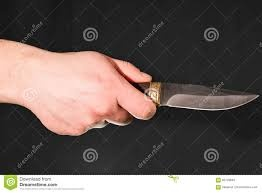knife: (139, 81, 260, 112)
